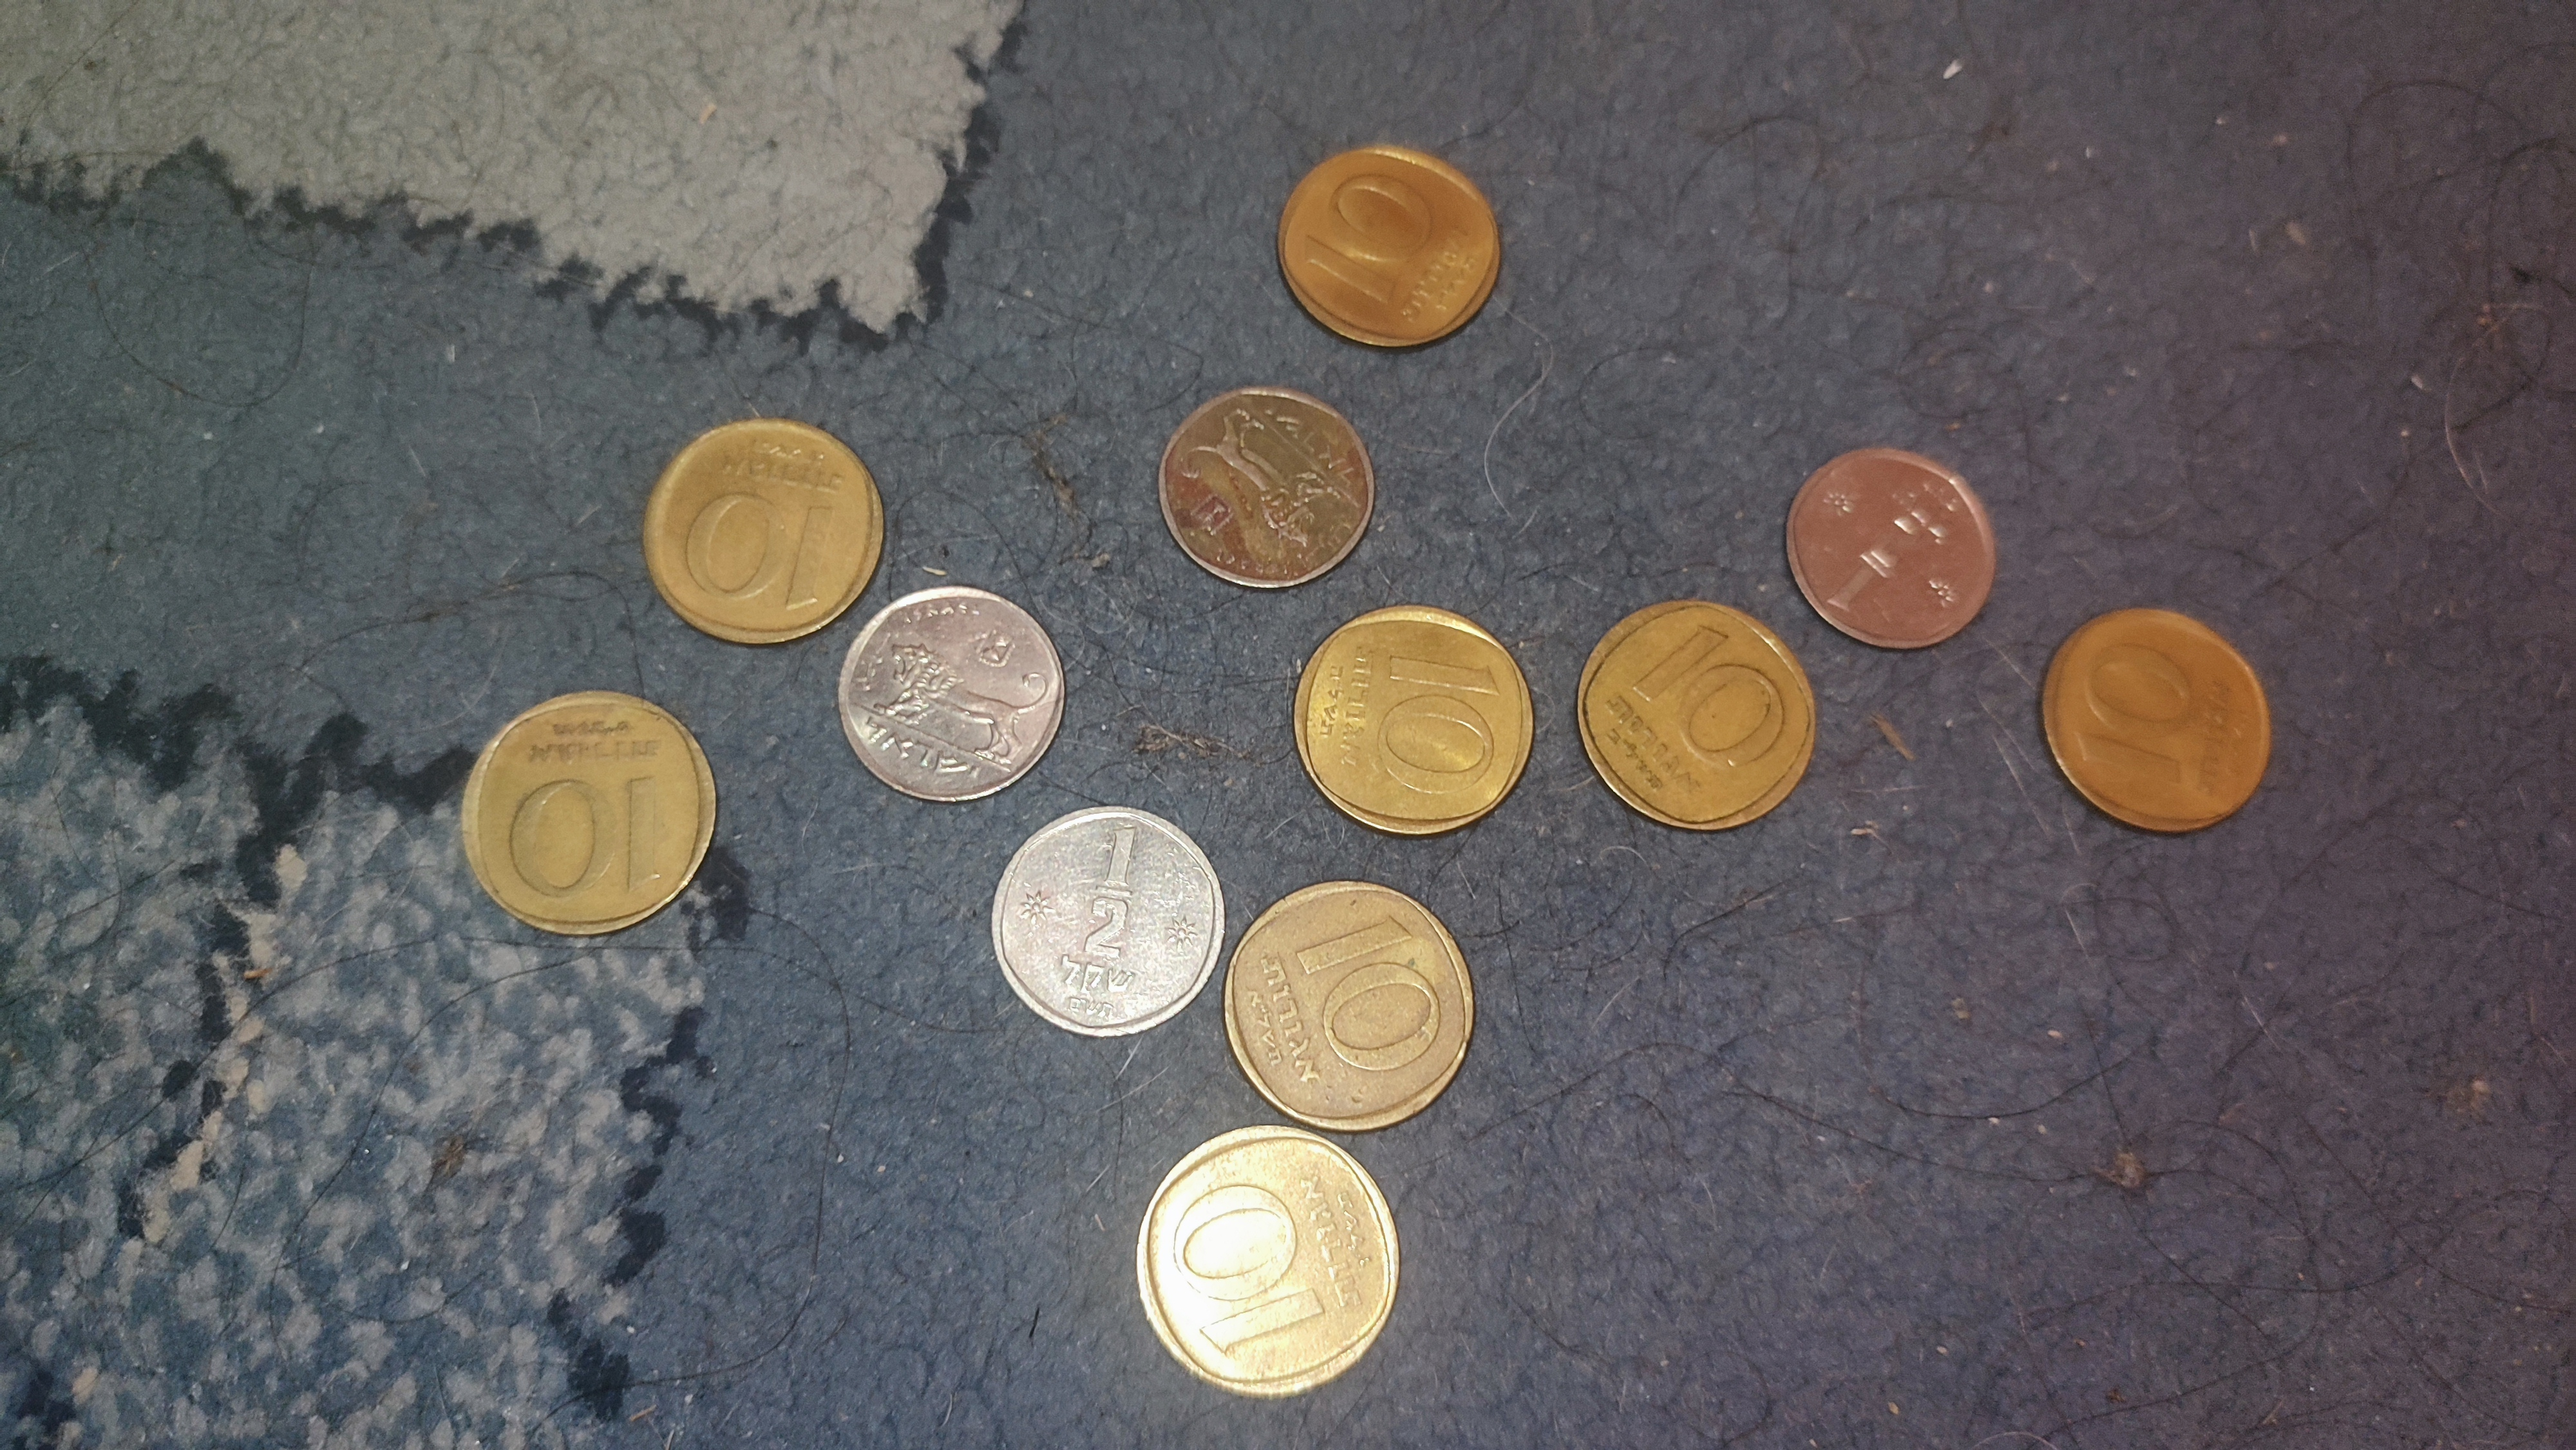1/2 old sheqel: (985, 801, 1230, 1043), (832, 580, 1070, 810), (1154, 382, 1380, 598), (1780, 442, 2001, 651)
10 old agora brown: (1129, 1119, 1408, 1406), (1217, 868, 1477, 1133), (456, 683, 715, 944), (1568, 589, 1822, 840), (1286, 599, 1541, 843), (633, 412, 893, 651), (2029, 601, 2282, 843), (1274, 140, 1509, 355)
